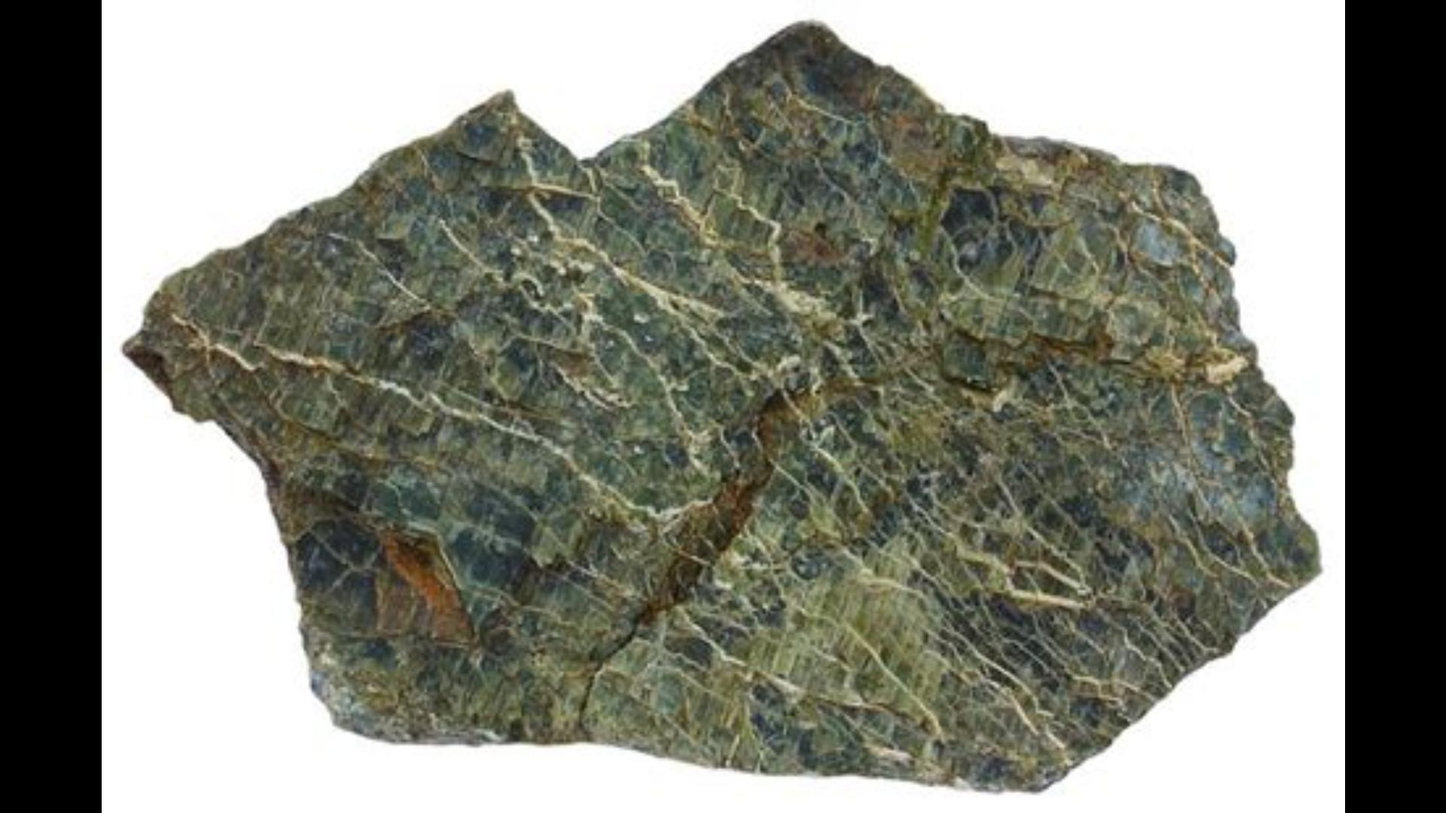rock: (125, 26, 1313, 787)
